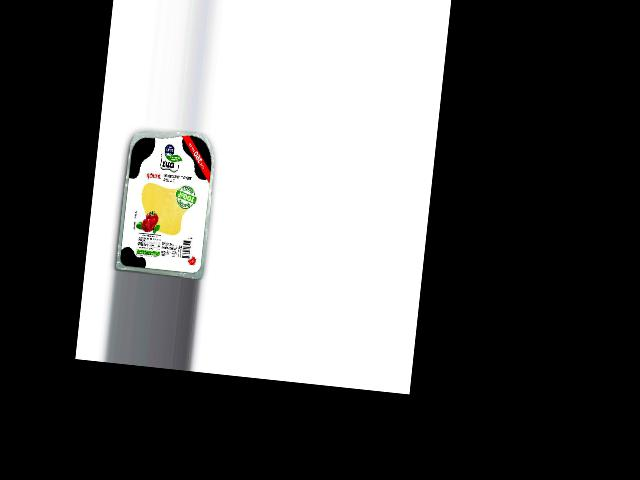cheese: (115, 124, 218, 279)
